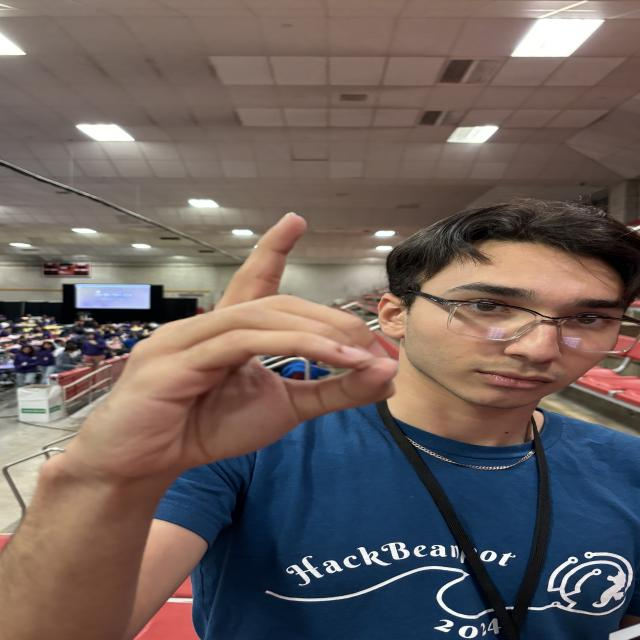D: (130, 210, 419, 430)
